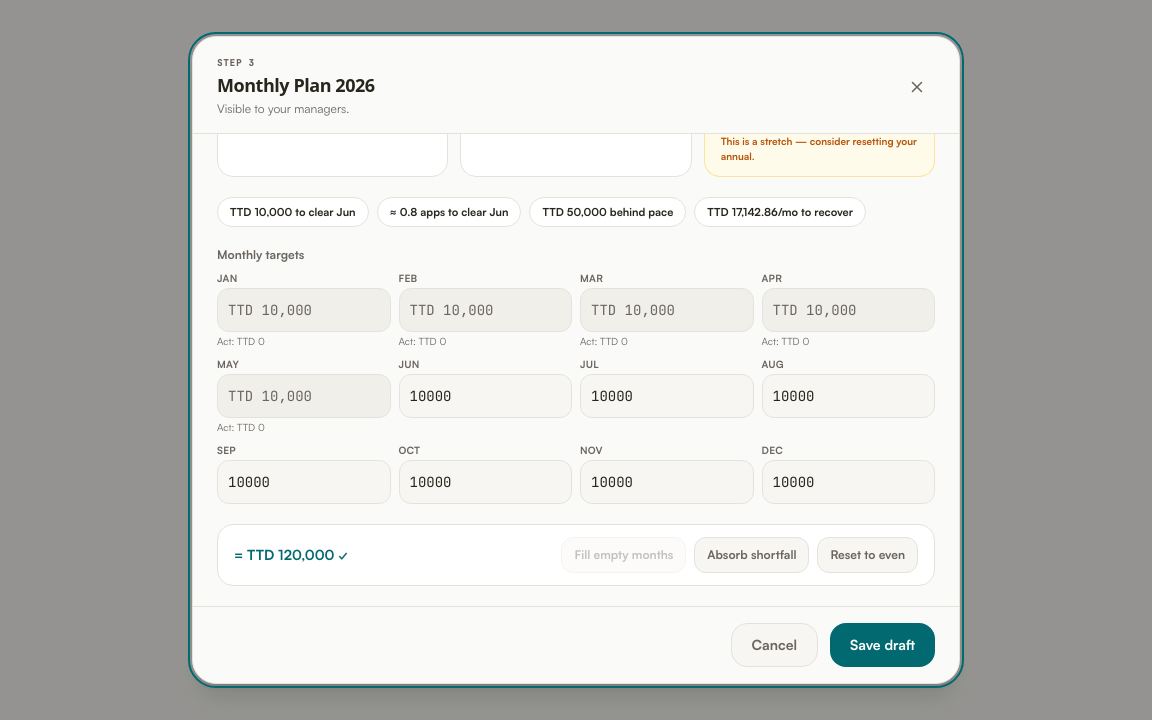
it: MonthlyPlanModal — edit behavior › editing a future month unbalances the delta and disables Save
(page scrolled)
Replace the text in the number field named "Dec target" with "20000". click: [848, 482]
box: [762,460,935,504]
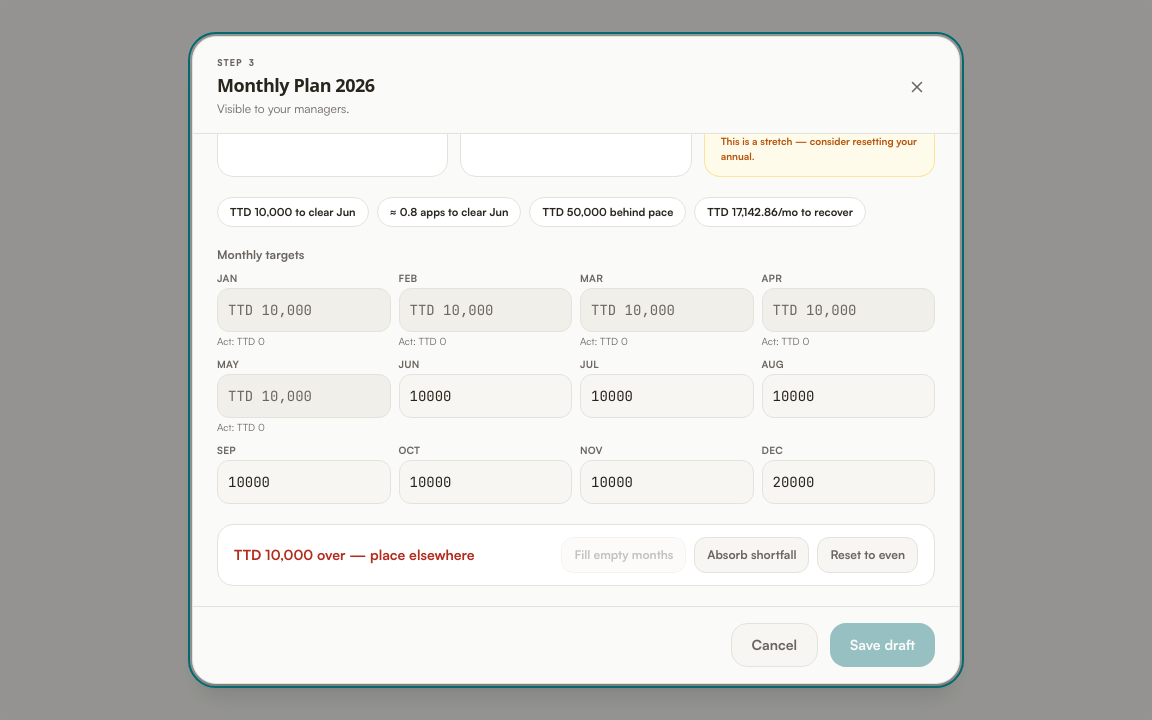
Result: the button "Save draft" is disabled at [830,623,935,667]
Result: the text with test id "balance-pill" no longer shows "✓"
